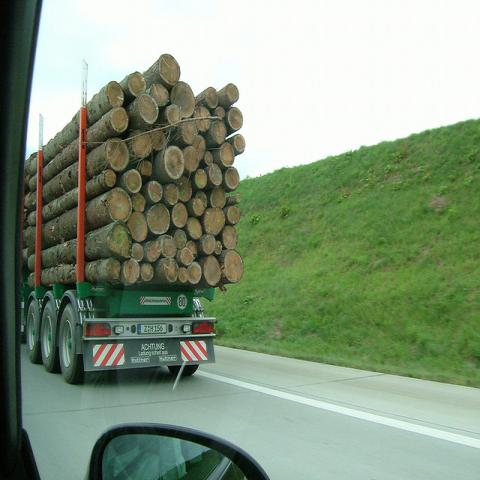car: (5, 0, 268, 475)
truck: (22, 282, 216, 381)
